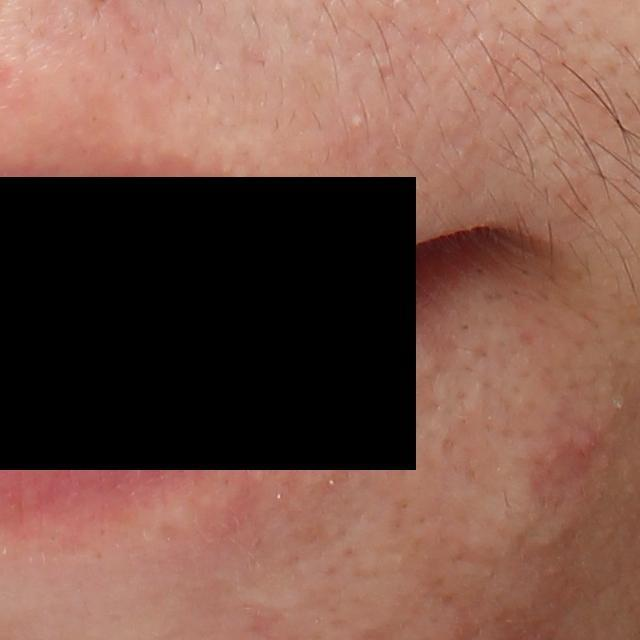comedo: (351, 115, 366, 132)
papule: (574, 428, 598, 458)
